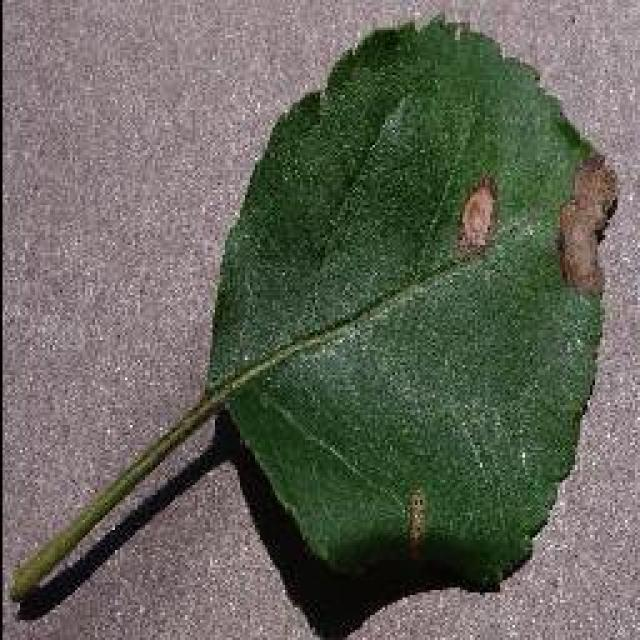Black_rot: (203, 12, 615, 592)
